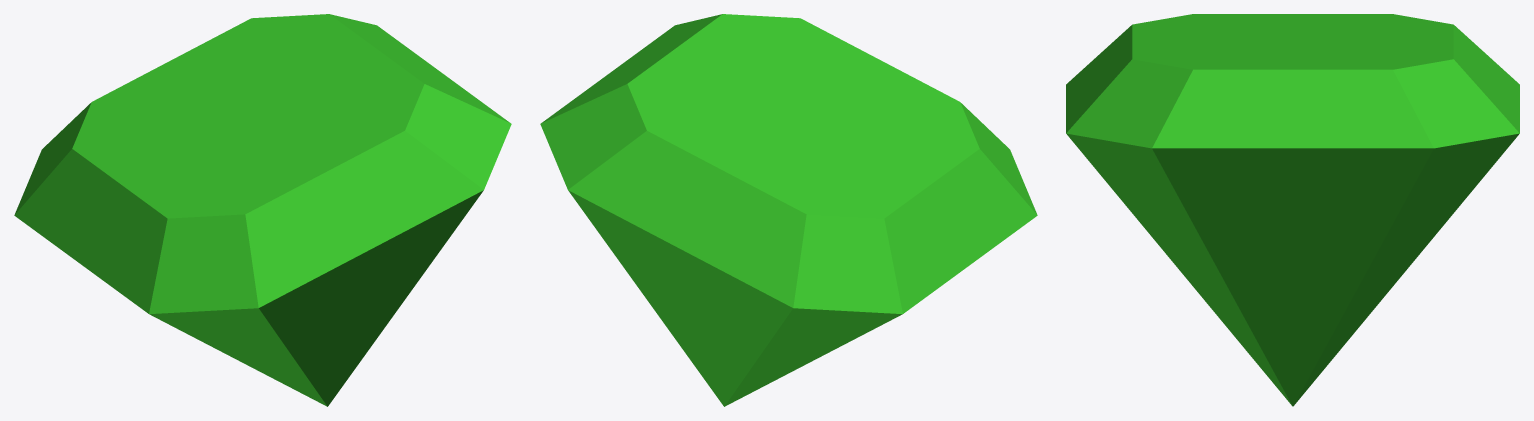
The model's file is Diamond.fbx.
3 renders of one model, left to right at view 1: azimuth 30°, elevation 25°; view 2: azimuth 150°, elevation 25°; view 3: azimuth 270°, elevation 25°, orthographic. The views are drawn at different scales.
Parts seen in each view (by area): view 1: Diamond; view 2: Diamond; view 3: Diamond.
Part boxes in pixels (x1,y1,x2,y2): Diamond: (14,14,511,406); Diamond: (540,14,1037,406); Diamond: (1066,14,1519,406).
Bounding box in the file's own units: 160 × 146 × 166.
